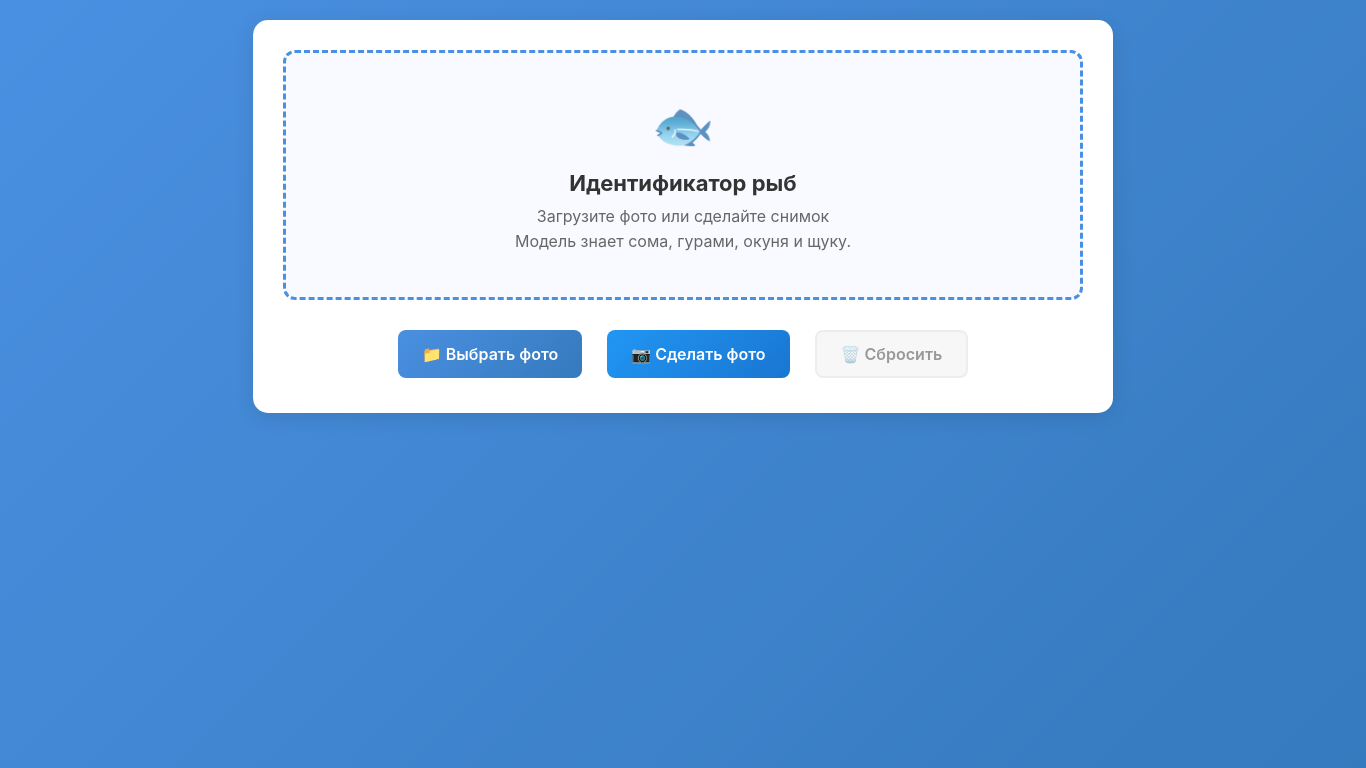
Scenario: explains denied camera permission
Expected: the button "📁 Выбрать фото" is shown, [398,330,582,378]
Step 1. Click the button "📷 Сделать фото" → point(698, 354), box [607,330,790,378]
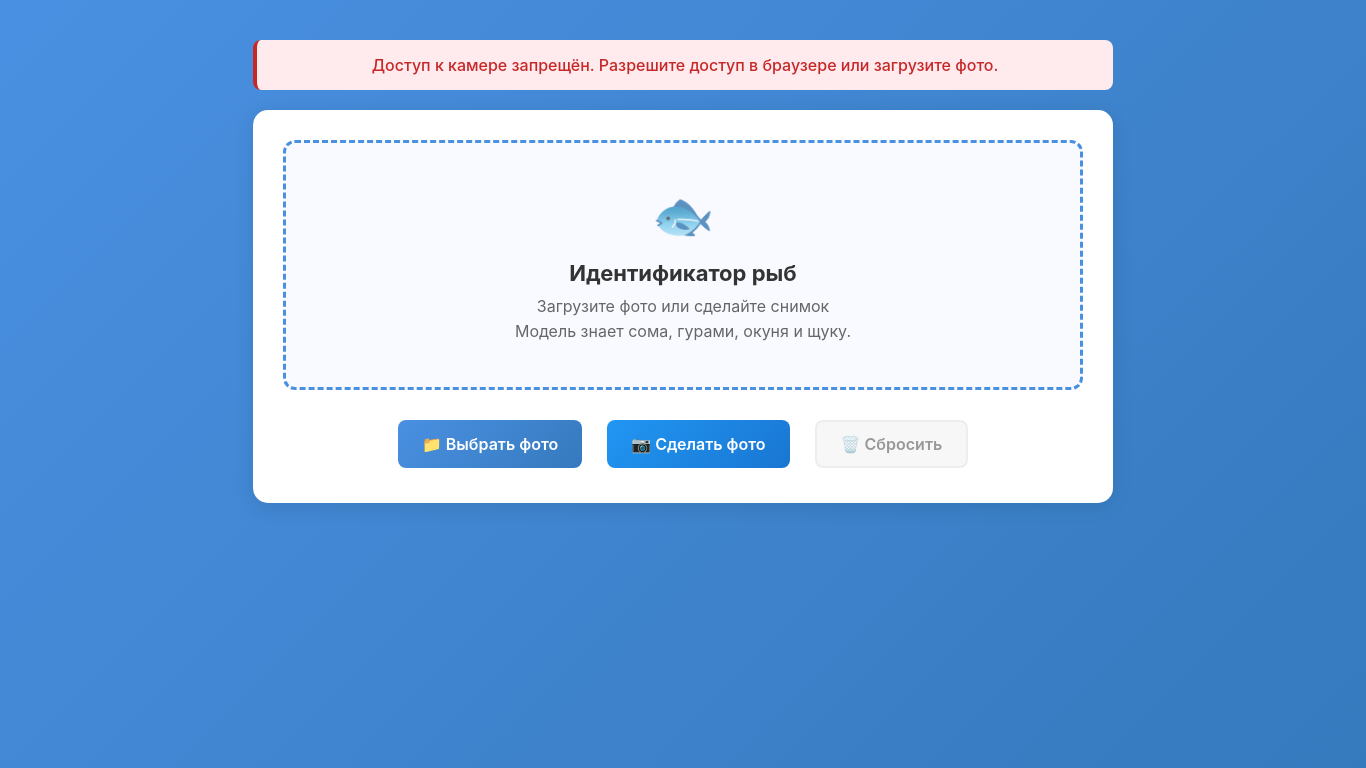
Now the message shows "Доступ к камере запрещён", box [372,55,998,75]
